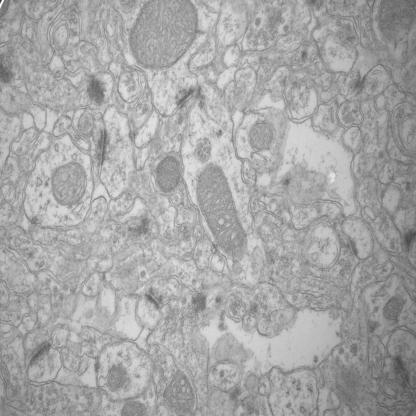mitochondria: (196, 163, 251, 257), (126, 0, 198, 68), (51, 160, 88, 206), (378, 0, 416, 43), (163, 370, 194, 416), (156, 154, 182, 192), (247, 121, 275, 151), (106, 362, 130, 390), (382, 296, 404, 320), (119, 399, 149, 416)
